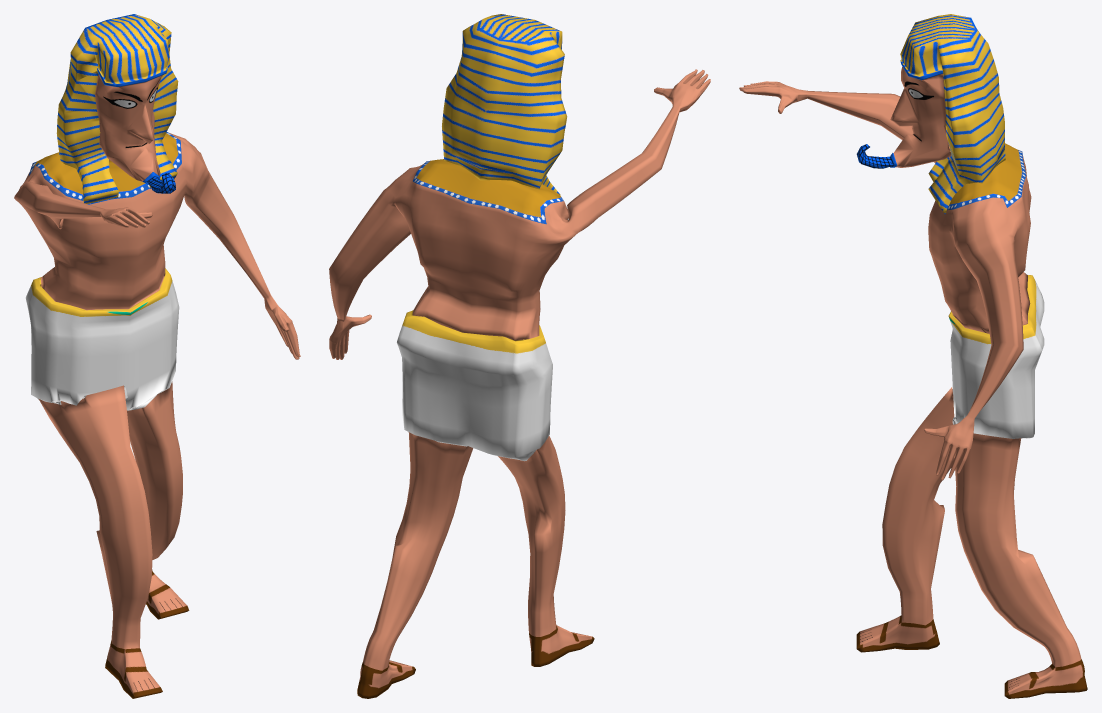
The model's file is pharao.obj.
The picture shows the model from 3 angles, left to right: view 1: azimuth 30°, elevation 25°; view 2: azimuth 150°, elevation 25°; view 3: azimuth 270°, elevation 25°; orthographic projection. The views are drawn at different scales.
Visible parts, largest first — view 1: pharao_Plane.006; view 2: pharao_Plane.006; view 3: pharao_Plane.006.
Part boxes in pixels (x1,y1,x2,y2): pharao_Plane.006: (14, 14, 300, 698); pharao_Plane.006: (329, 14, 710, 698); pharao_Plane.006: (739, 14, 1087, 698).
Size of the model in its own units: 14.64 by 30.59 by 15.37.
